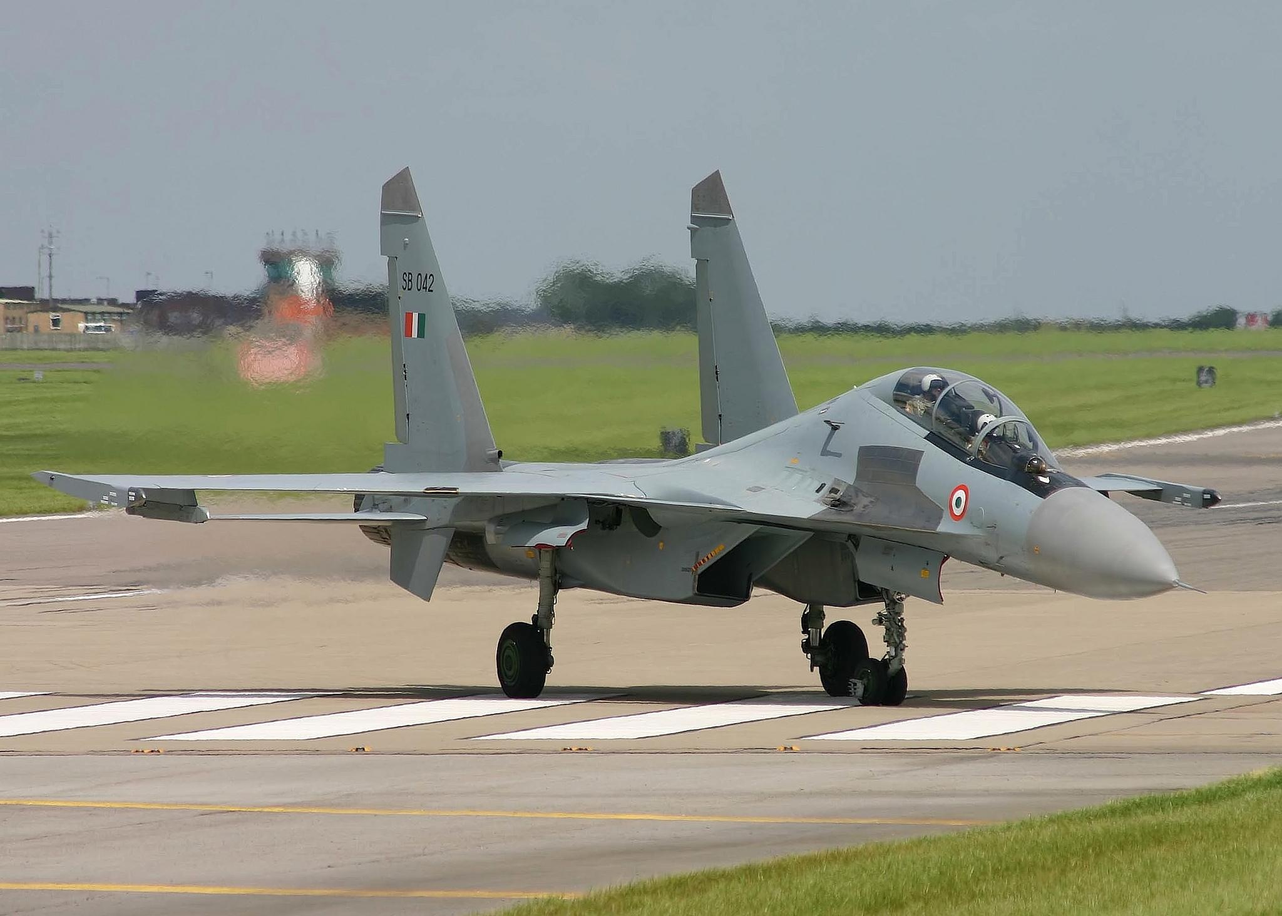aircraft: (3, 162, 1234, 709)
